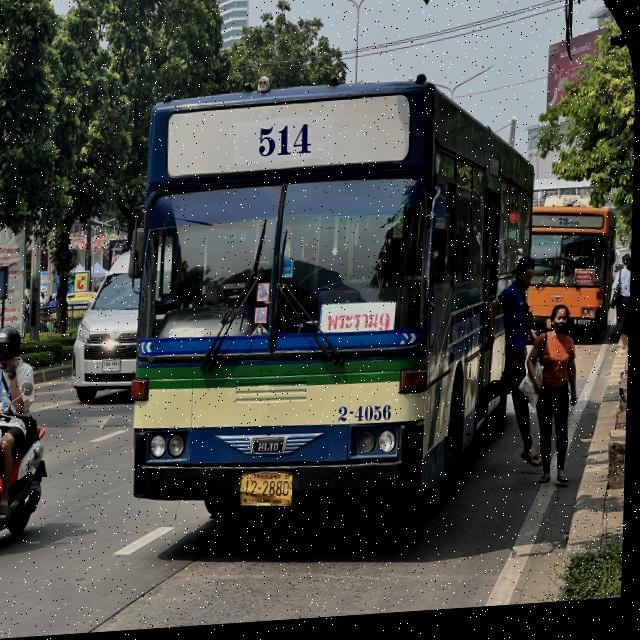BMTA-bus: (121, 58, 543, 552), (531, 197, 621, 355)
Bus Line Number: (233, 123, 336, 167), (558, 221, 583, 236)
Bus Side Number: (338, 404, 397, 430), (575, 325, 594, 336)
Destination Sign: (321, 304, 398, 339), (576, 275, 596, 295)
